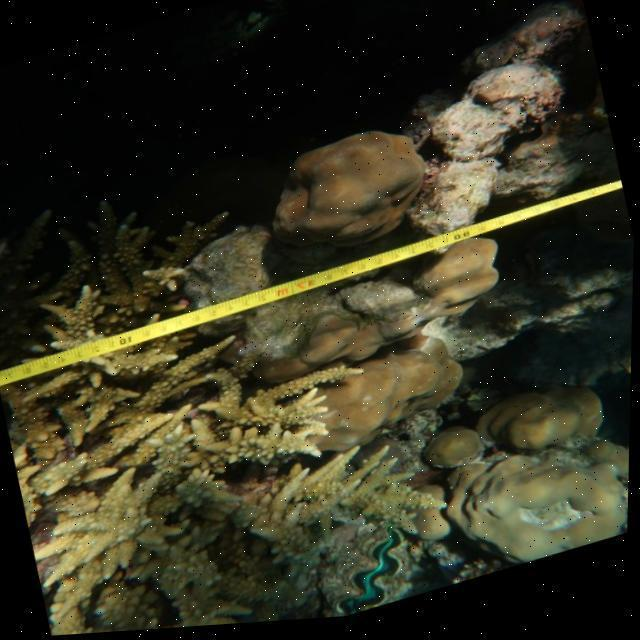Bleached Coral: (0, 272, 466, 640)
